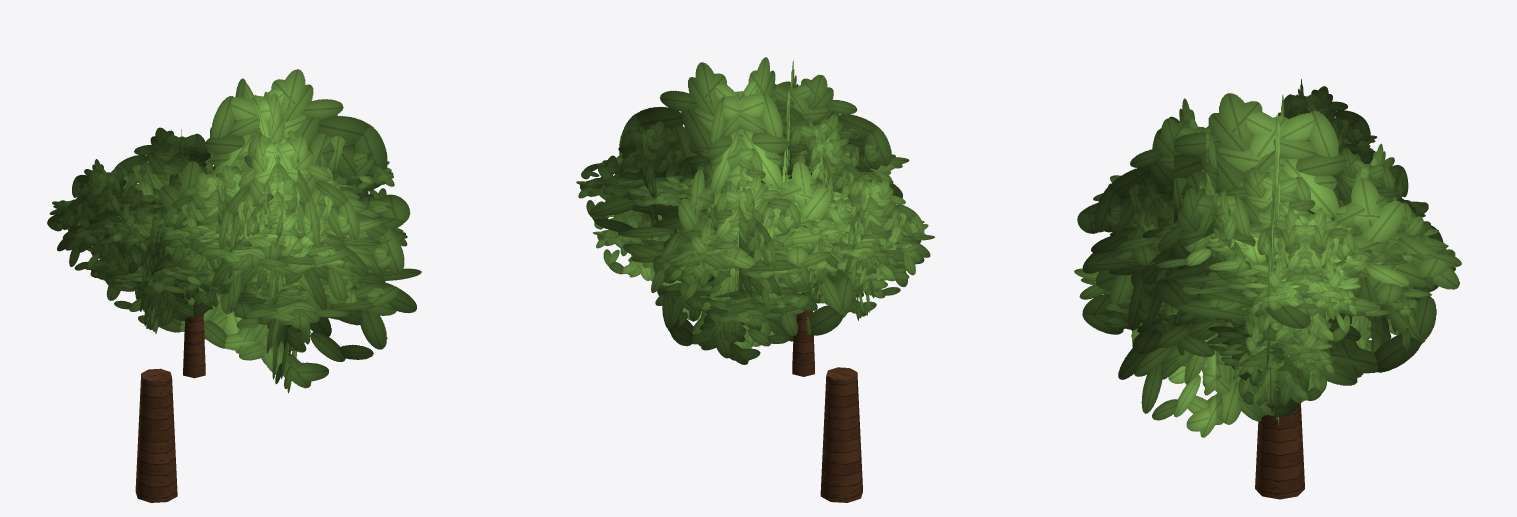
Rendered from flora_windswept.glb.
The picture shows the model from 3 angles, left to right: view 1: azimuth 30°, elevation 25°; view 2: azimuth 150°, elevation 25°; view 3: azimuth 270°, elevation 25°; orthographic projection. The views are drawn at different scales.
Visible parts, largest first — view 1: CrownFar, Crown, Trunk; view 2: Crown, CrownFar, Trunk; view 3: CrownFar, Crown, Trunk.
Boxes of the visible parts, x1,y1,x2,y2 form: CrownFar: [111, 69, 421, 393]; Crown: [47, 114, 407, 333]; Trunk: [135, 298, 205, 502]; Crown: [576, 114, 934, 364]; CrownFar: [589, 57, 909, 348]; Trunk: [792, 292, 862, 502]; CrownFar: [1074, 93, 1461, 437]; Crown: [1132, 79, 1455, 407]; Trunk: [1255, 403, 1304, 499].
Size of the model in its own units: 5.95 by 5.95 by 5.99.
2 materials, 2 textured.
